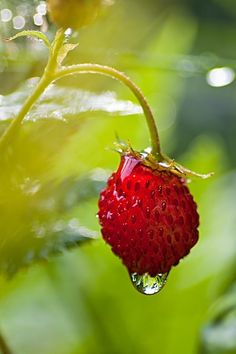ripe: (96, 153, 211, 284)
